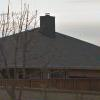Chimney: (36, 7, 59, 39)
